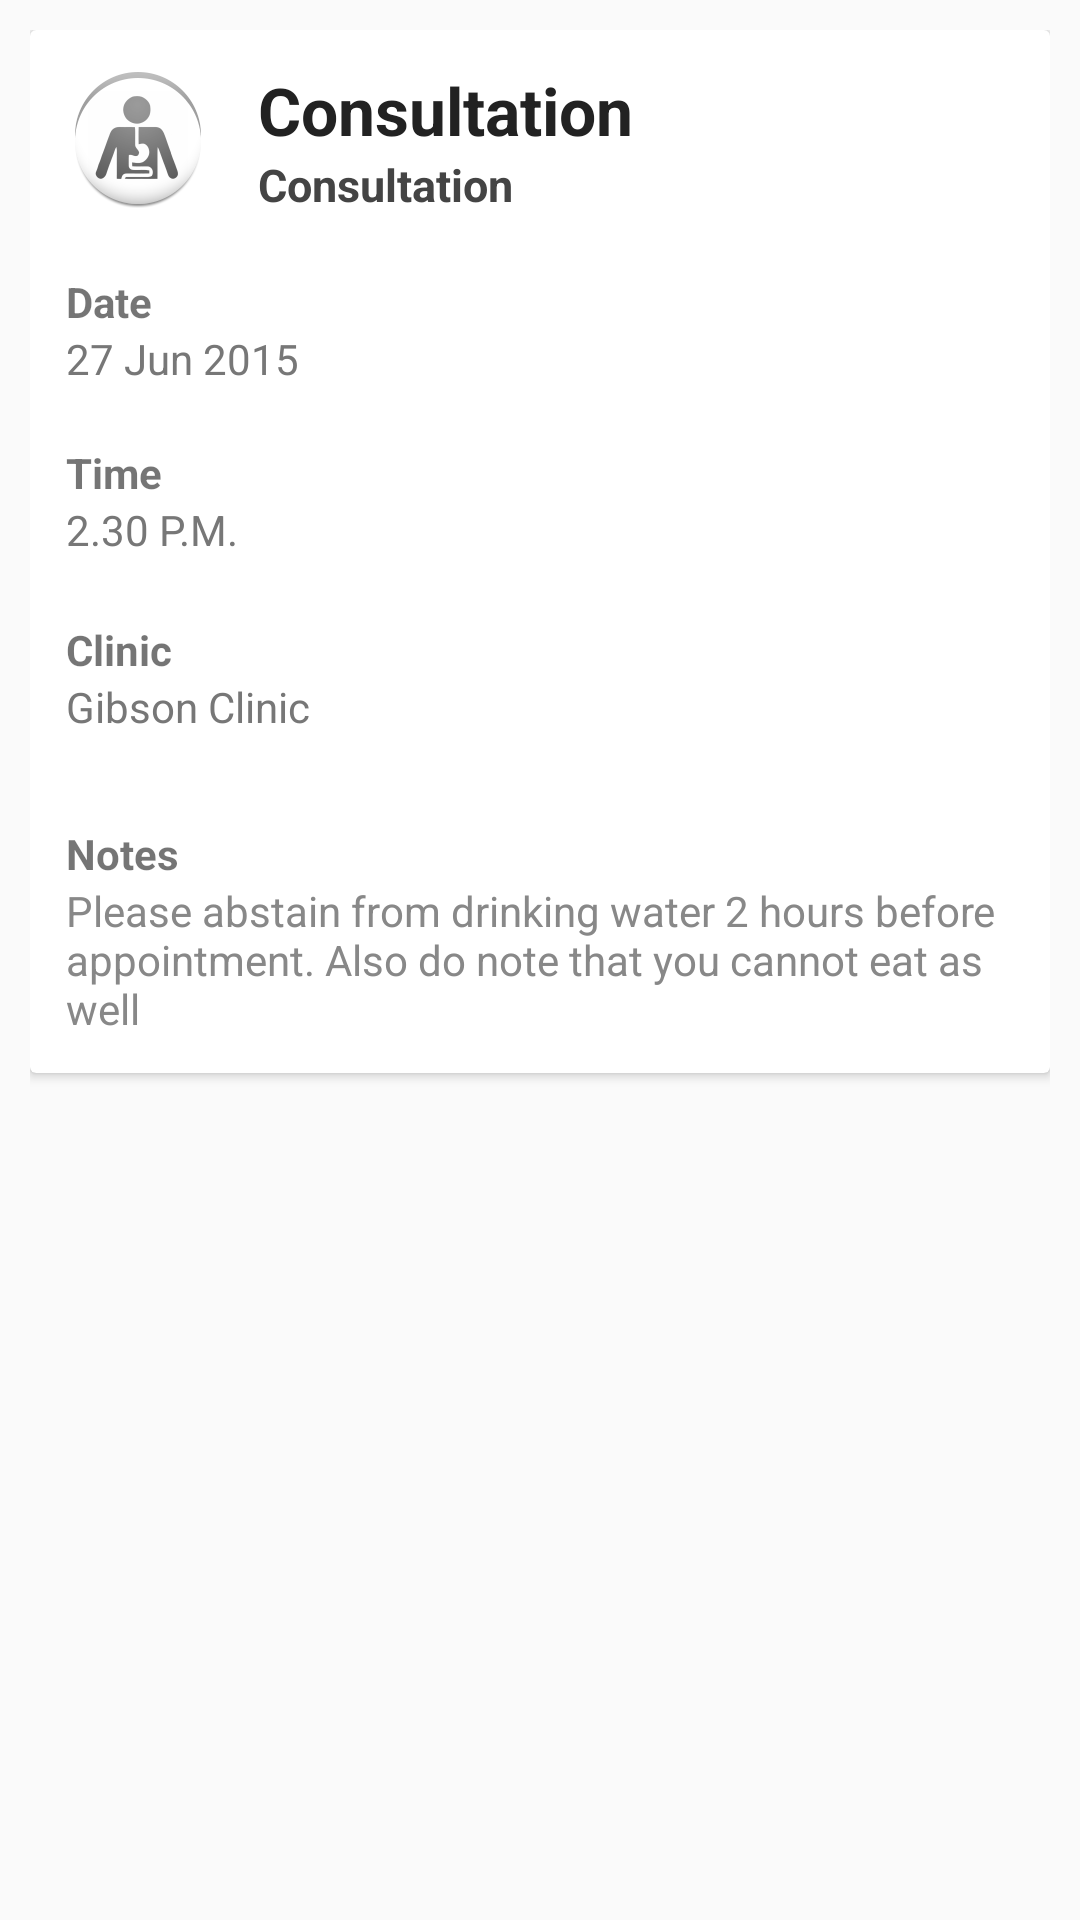

Named icons in this screenshot (1080 x 1920) and their centers, (x,y):
gastro: (138,139)
